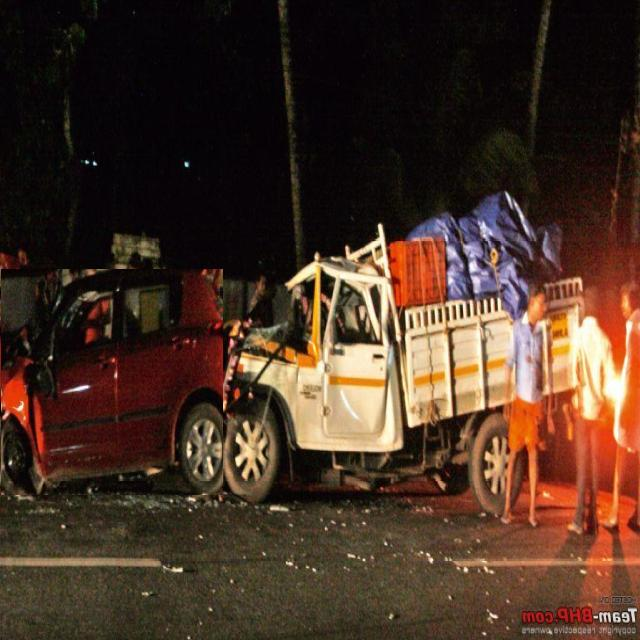accident: (220, 192, 584, 515), (1, 269, 222, 495)
